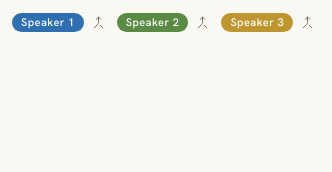
Test: SpeakerLabels merge flow › Escape closes the menu and returns focus to the merge trigger
The width and height of the screenshot is (332, 172).
Click the button named "merge speaker 1 into another" at [98, 22], box [88, 12, 109, 33]
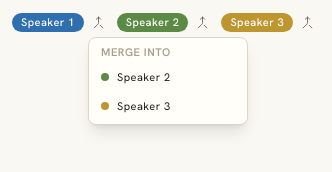
Check: the menu is shown, box [88, 37, 248, 125]
Press Escape
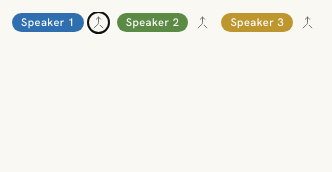
Check: the menu is gone
